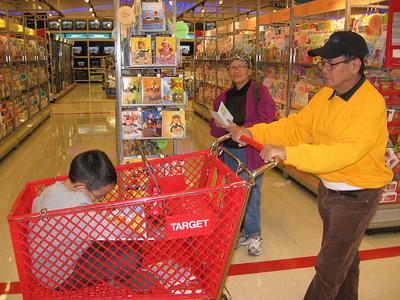person: (227, 31, 393, 299)
